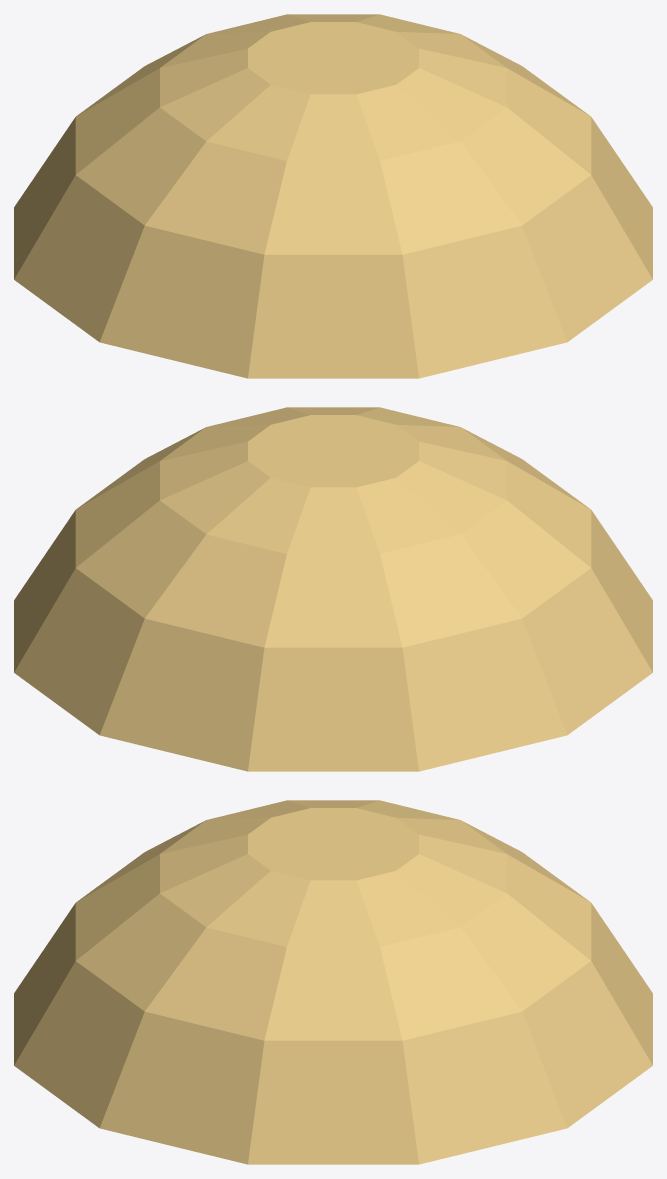
Rendered from Prop_Decorative_Hay_Pile.obj.
3 renders of one model, top to bottom at view 1: azimuth 30°, elevation 25°; view 2: azimuth 150°, elevation 25°; view 3: azimuth 270°, elevation 25°, orthographic.
Parts seen in each view (by area): view 1: Hay; view 2: Hay; view 3: Hay.
Part boxes in pixels (x1,y1,x2,y2): Hay: [14, 14, 652, 378]; Hay: [14, 407, 652, 771]; Hay: [14, 800, 652, 1164].
Size of the model in its own units: 1.25 by 0.4 by 1.25.
